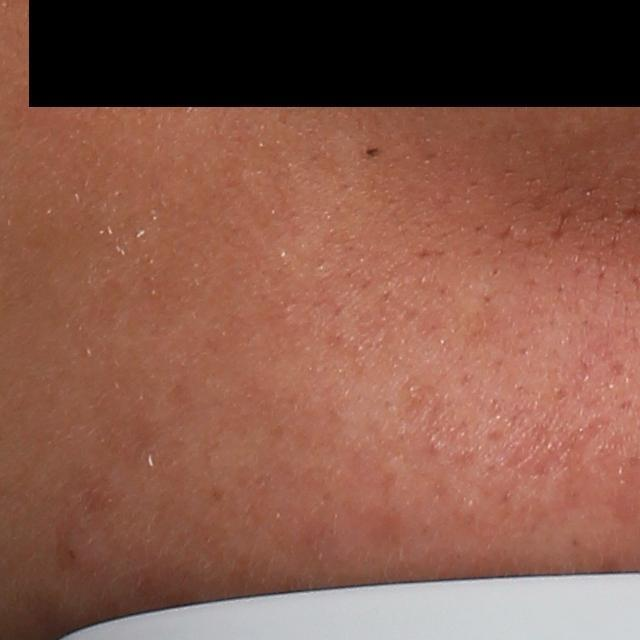nevus: (364, 147, 382, 157)
